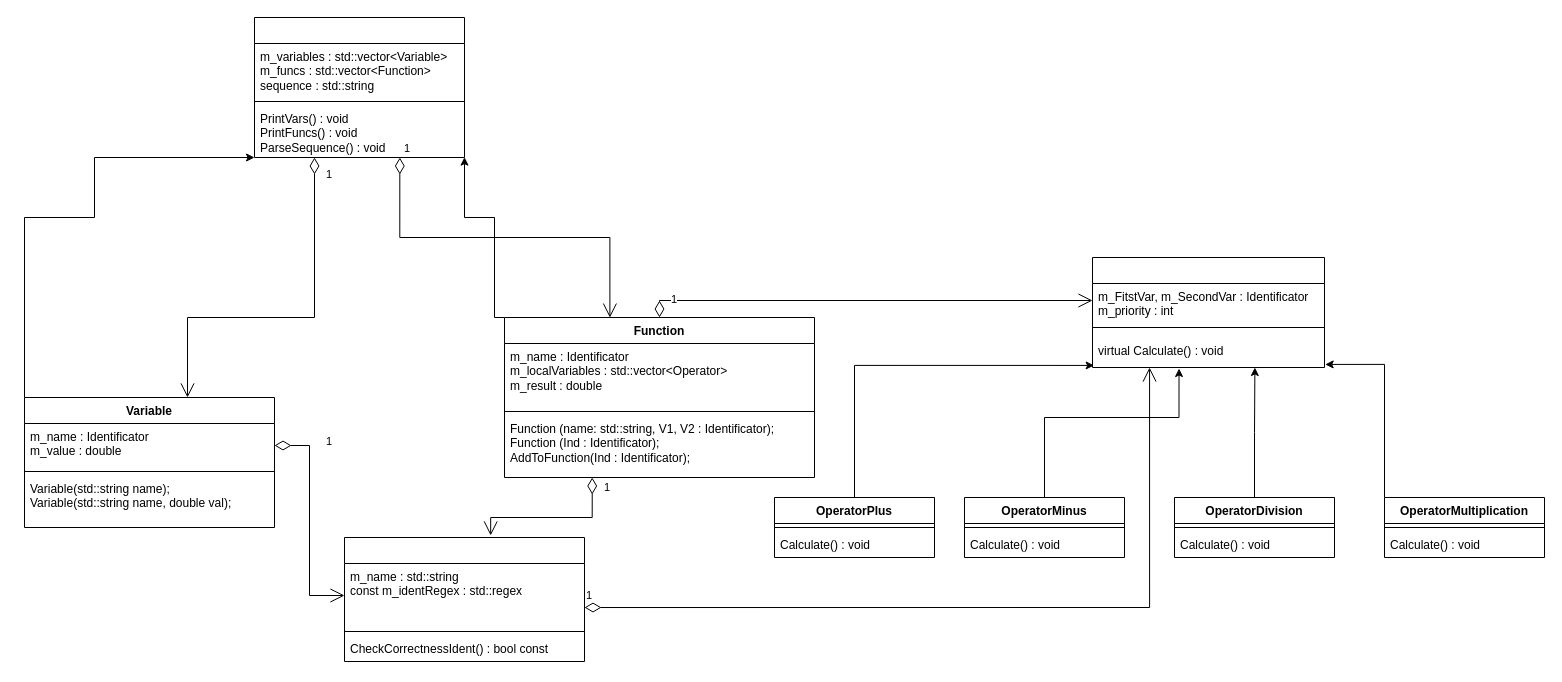
The diagram is 1562 pixels wide and 682 high, and some of its shapes have lost their labels. Each missing label, with the box of its shape:
Identificator: (344, 536, 584, 662)
Memory: (254, 16, 464, 158)
Operator: (1092, 256, 1324, 368)
